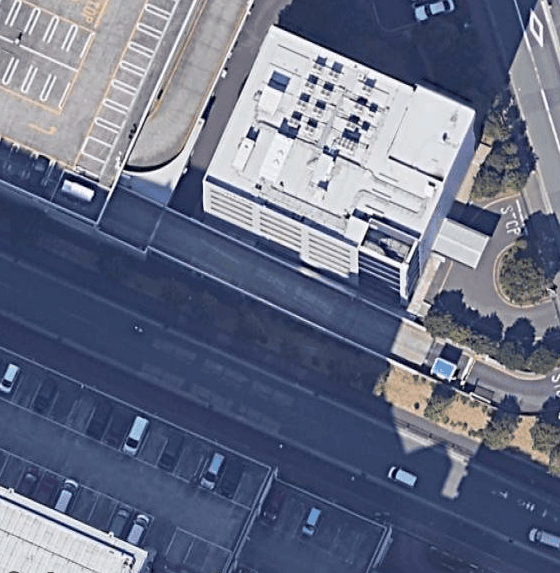facility: (188, 5, 488, 292)
